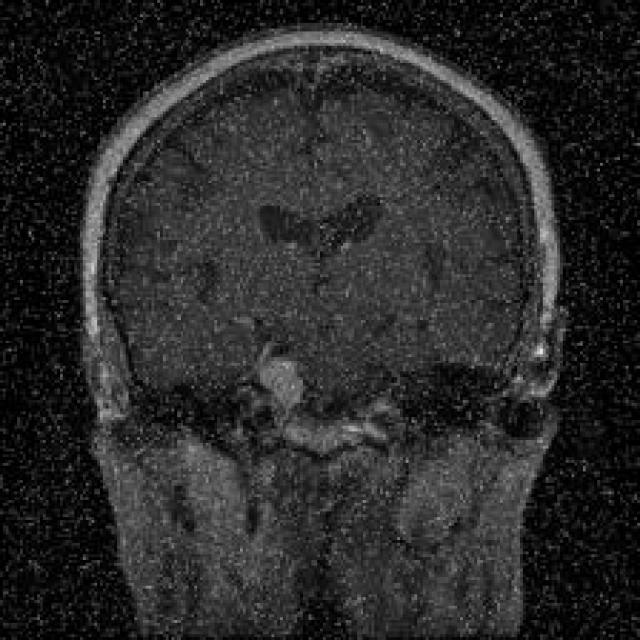meningioma_tumor: (242, 321, 326, 443)
